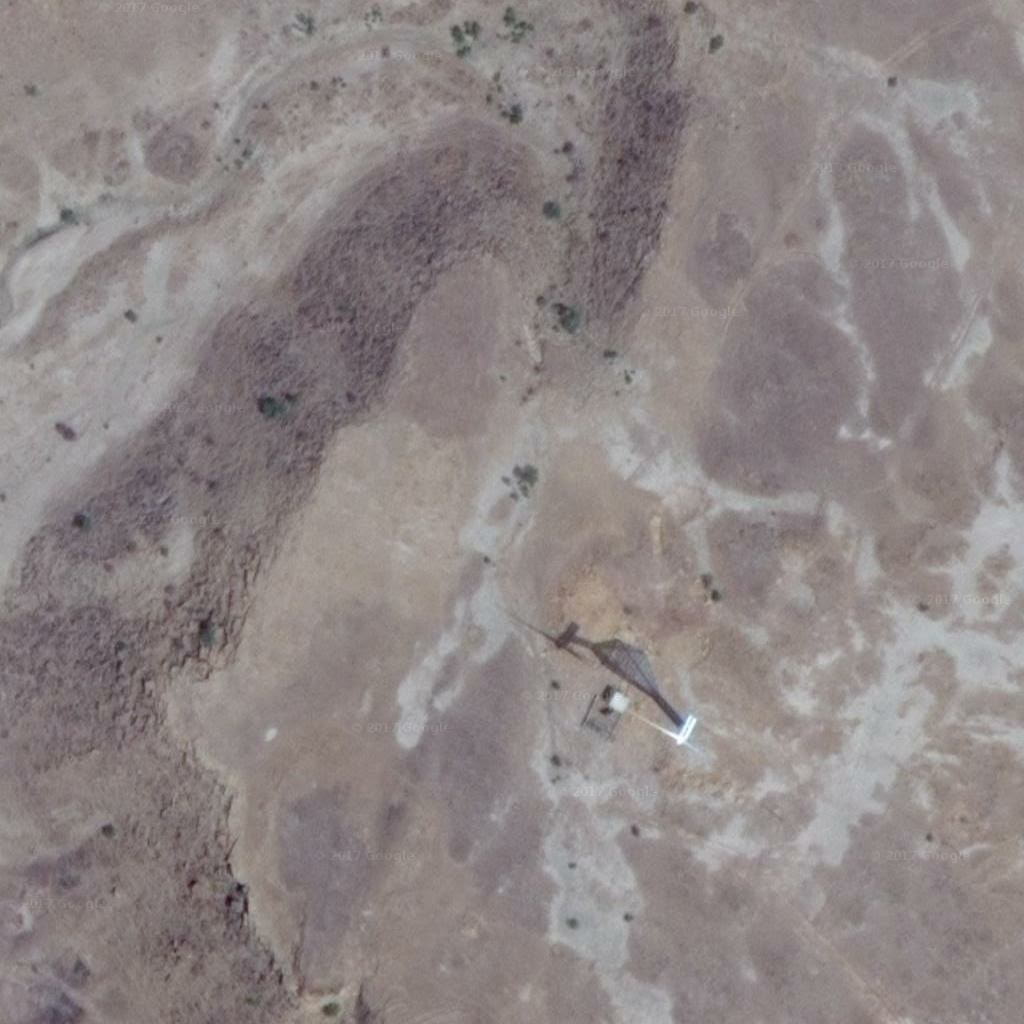Windmill: (499, 604, 694, 735)
